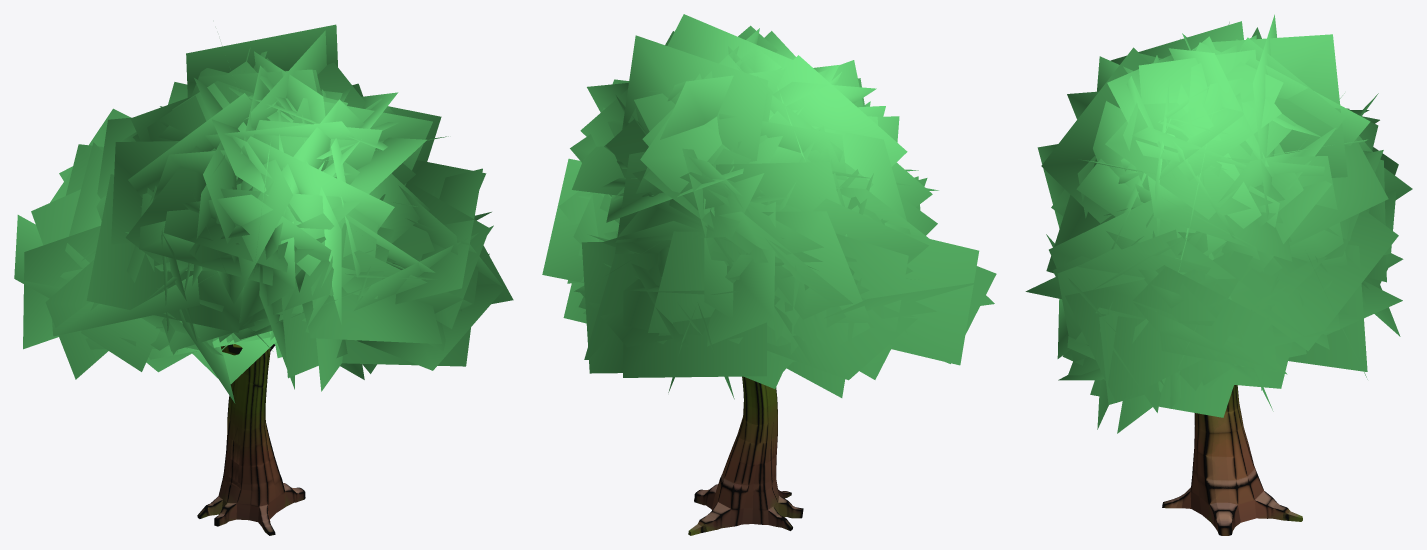
File: tree_04.fbx
3 renders of one model, left to right at view 1: azimuth 30°, elevation 25°; view 2: azimuth 150°, elevation 25°; view 3: azimuth 270°, elevation 25°, orthographic. The views are drawn at different scales.
Visible parts, largest first — view 1: Plane.109, Tree.004; view 2: Plane.109, Tree.004; view 3: Plane.109, Tree.004.
Boxes of the visible parts, x1=… form: Plane.109: x1=14, y1=24, x2=513, y2=403; Tree.004: x1=197, y1=344, x2=305, y2=535; Plane.109: x1=542, y1=14, x2=996, y2=399; Tree.004: x1=688, y1=376, x2=803, y2=535; Plane.109: x1=1025, y1=14, x2=1412, y2=433; Tree.004: x1=1162, y1=385, x2=1302, y2=535.
Size of the model in its own units: 581 by 587 by 418.
